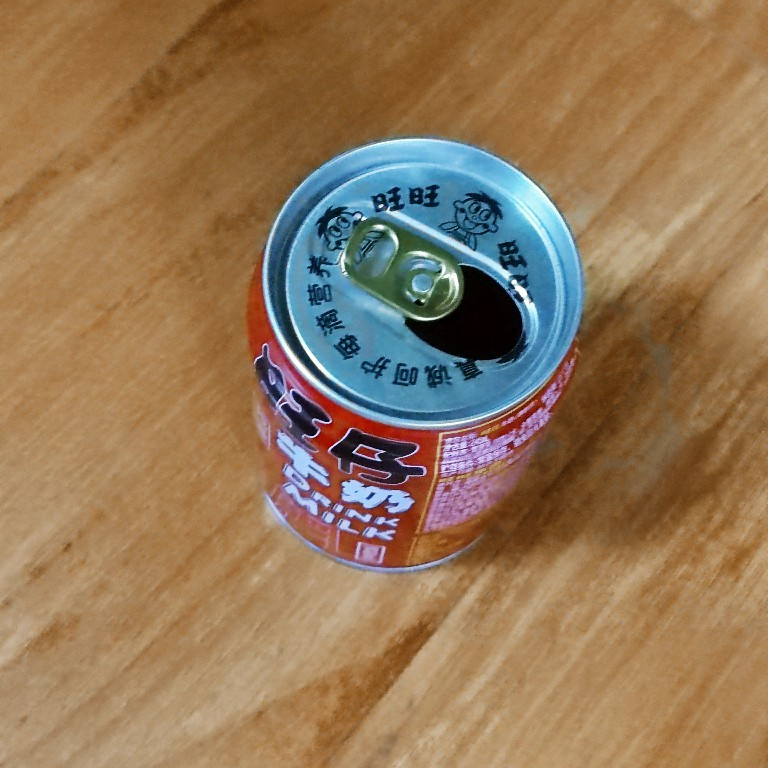can: (243, 132, 585, 576)
